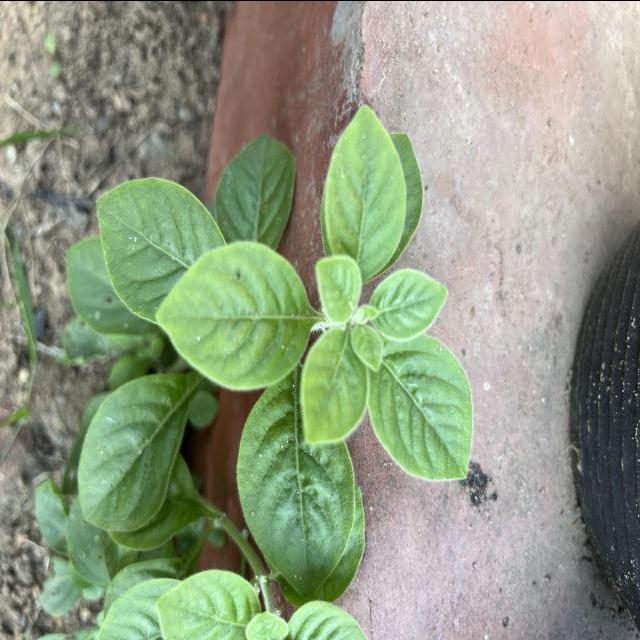Aerva lanata: (234, 380, 358, 598), (90, 171, 229, 328), (364, 329, 476, 485), (317, 99, 408, 278)
